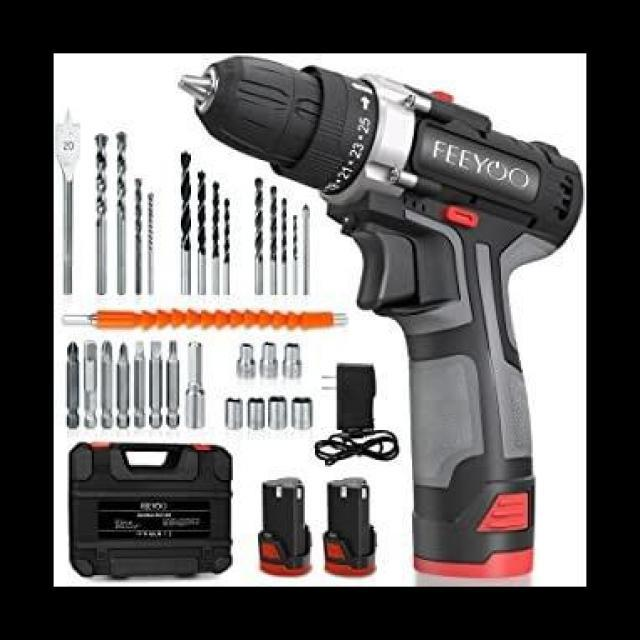drill: (176, 56, 585, 581)
